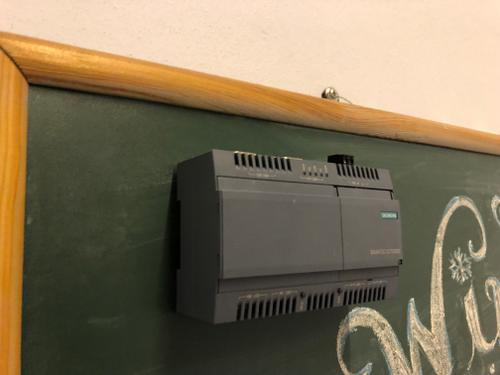device: (177, 149, 404, 324)
